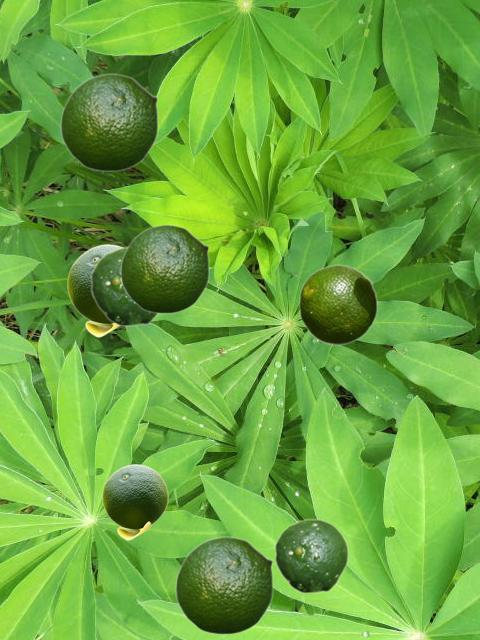calamansi: (175, 536, 273, 634), (60, 73, 158, 171), (120, 224, 209, 313), (298, 264, 377, 344), (274, 518, 348, 593), (90, 246, 159, 326), (67, 244, 121, 336), (102, 464, 167, 539)
